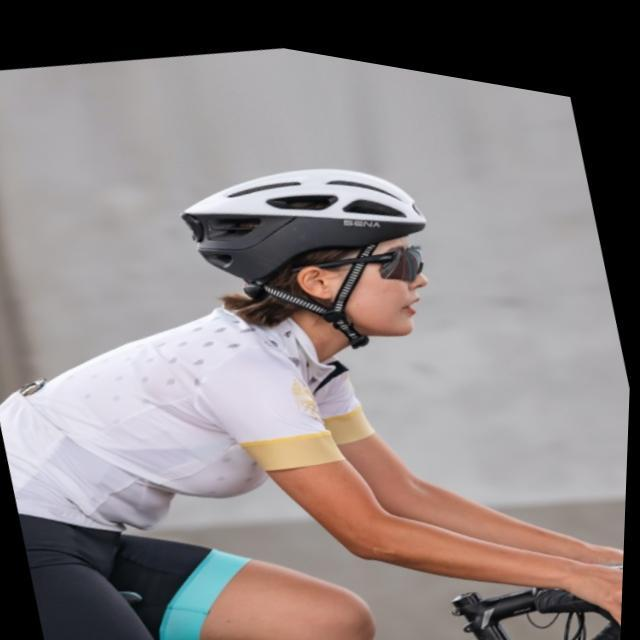Helmet: (179, 163, 433, 354)
